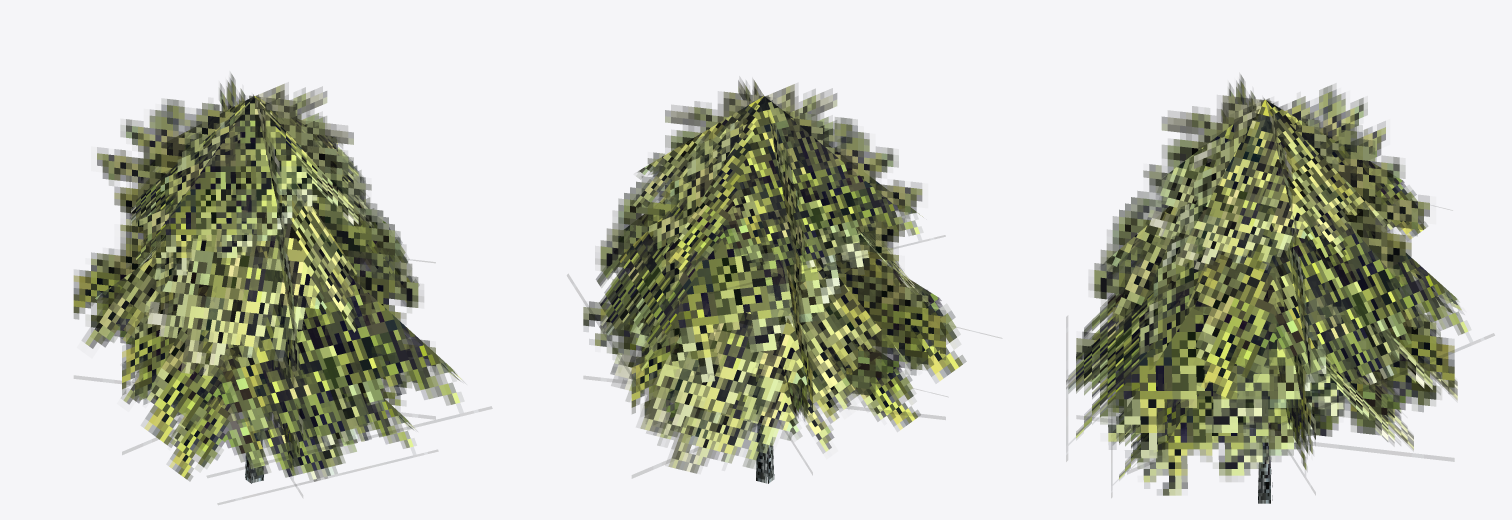
File: Environment - Vegetation - Tree Oak Stump - PTMaple02.glb
The picture shows the model from 3 angles, left to right: view 1: azimuth 30°, elevation 25°; view 2: azimuth 150°, elevation 25°; view 3: azimuth 270°, elevation 25°; orthographic projection. The views are drawn at different scales.
Visible parts, largest first — view 1: PTMAPLE02; view 2: PTMAPLE02; view 3: PTMAPLE02.
Boxes of the visible parts, box(x1,y1,x2,y2) form: PTMAPLE02: box(73, 73, 491, 504); PTMAPLE02: box(567, 78, 998, 483); PTMAPLE02: box(1066, 74, 1494, 503).
Size of the model in its own units: 36.47 by 35.4 by 36.47.
Materials: 1 (1 with a texture image).
